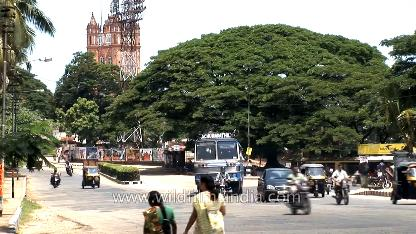auto-rikshaw: (301, 163, 328, 199), (80, 165, 104, 189)
bike: (286, 169, 314, 215), (329, 162, 355, 206), (48, 168, 63, 188), (62, 156, 74, 176)
bus: (194, 132, 246, 194)
car: (256, 168, 300, 202)
